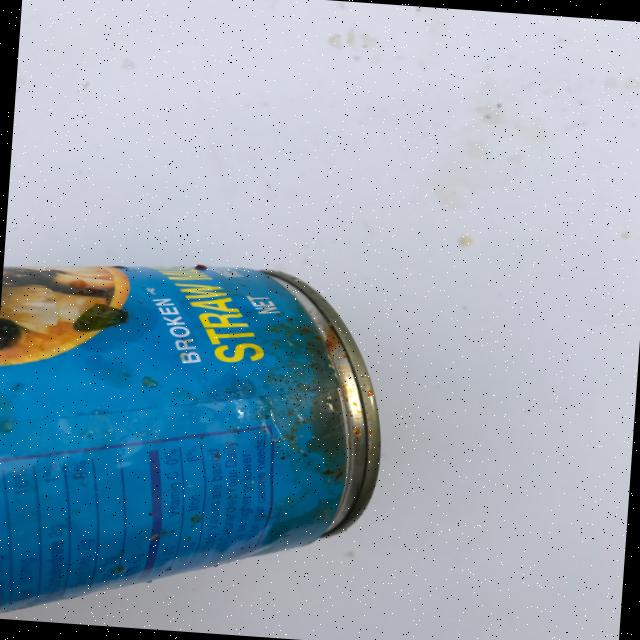metal: (0, 248, 393, 640)
